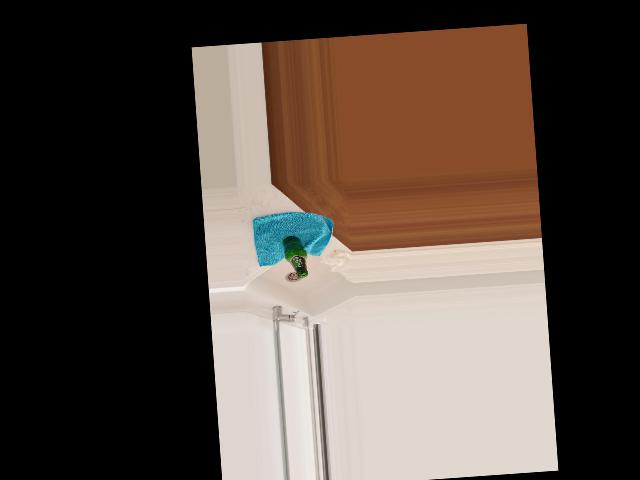beer: (282, 234, 308, 278)
